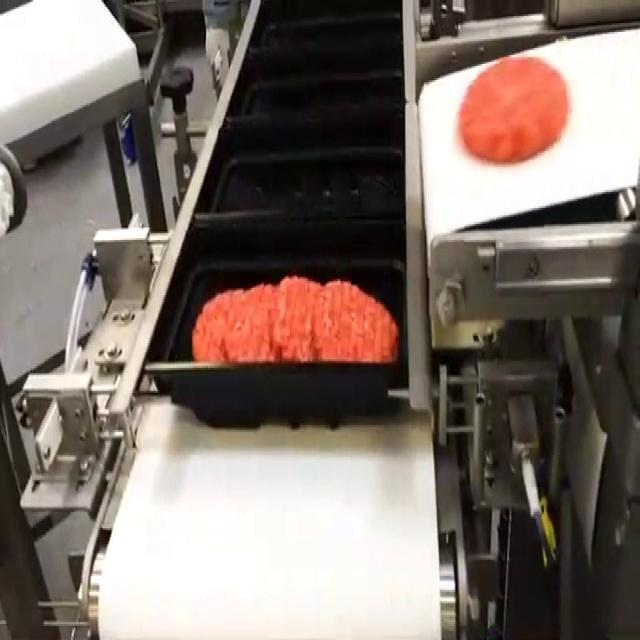4-hamburguer: (192, 276, 398, 363)
